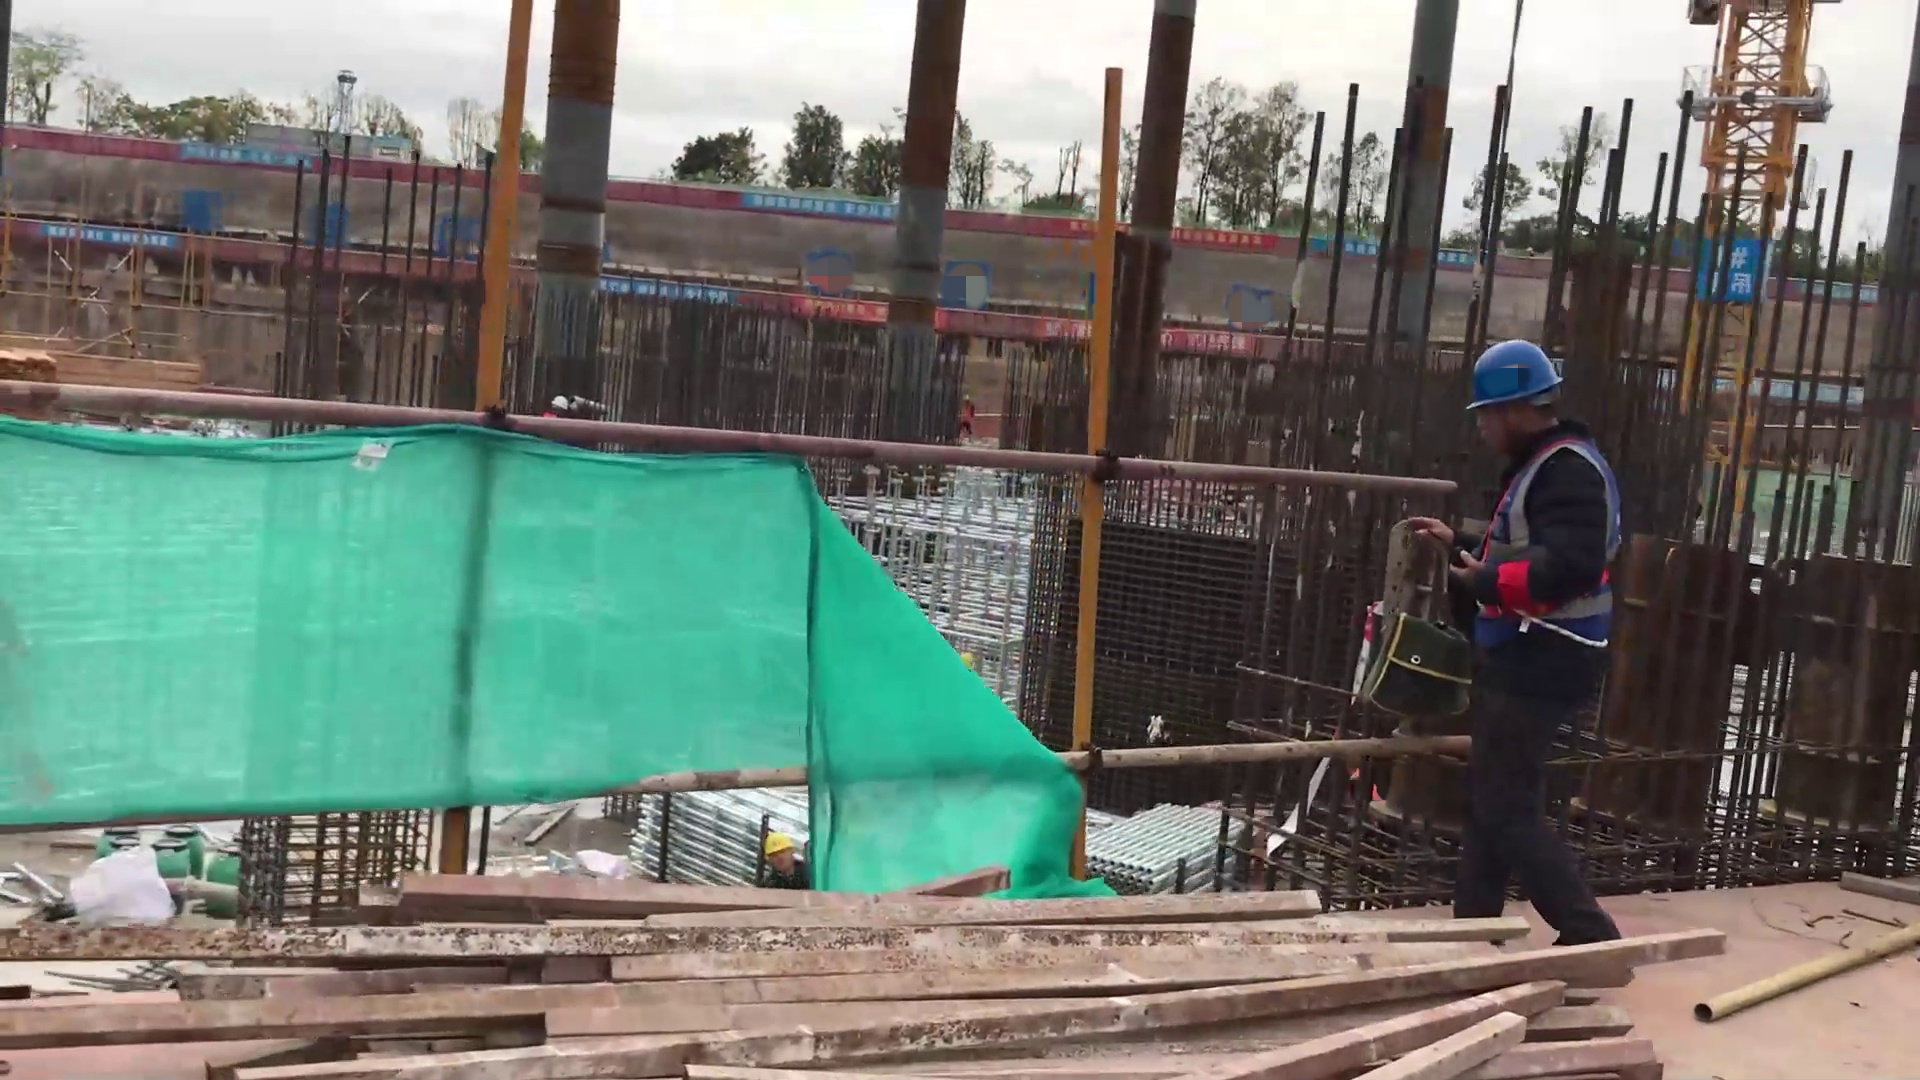helmet: (1467, 342, 1565, 414), (550, 397, 568, 411)
person: (1401, 339, 1629, 950), (757, 832, 808, 889), (960, 394, 977, 436), (542, 394, 570, 420)
slogan: (1034, 315, 1264, 359), (1067, 217, 1278, 256), (741, 187, 897, 228), (175, 140, 317, 177), (601, 272, 737, 310), (40, 220, 179, 253), (788, 291, 890, 323)
vest: (1471, 439, 1621, 651)
wood: (1, 876, 1661, 1080)
